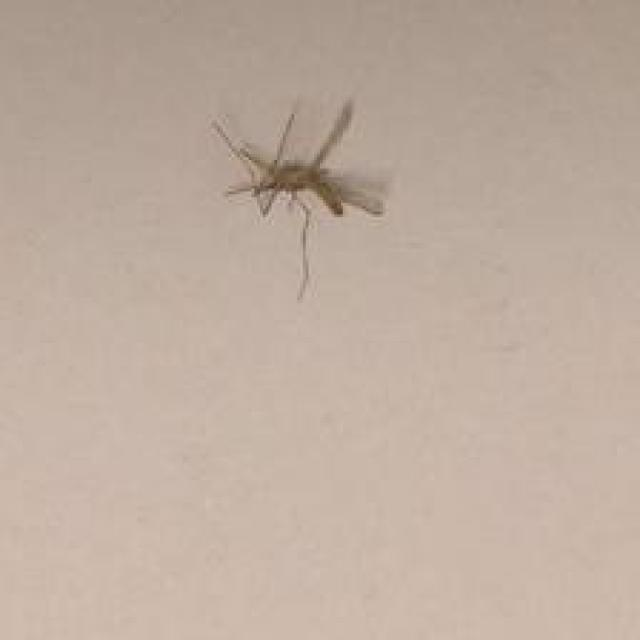Culex: (209, 96, 394, 301)
